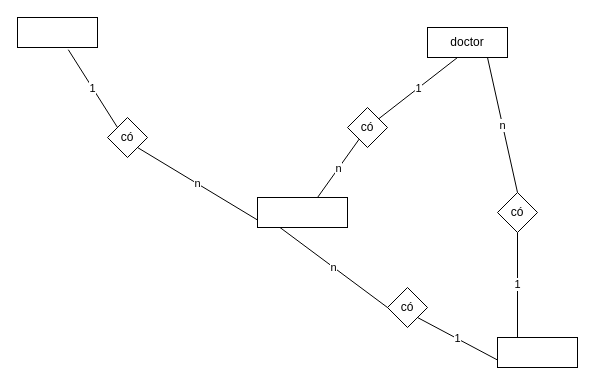
The diagram is 595 pixels wide and 385 high, and some of its shapes have lost their labels. The centre of each missing label's shape, as x and y in pixels:
"department" belongs at (x=537, y=352).
"medical records" belongs at (x=302, y=212).
"patient" belongs at (x=57, y=32).
